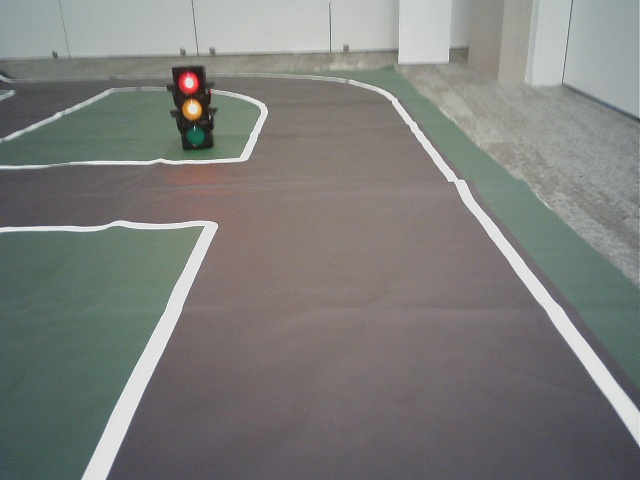red: (177, 68, 208, 146)
